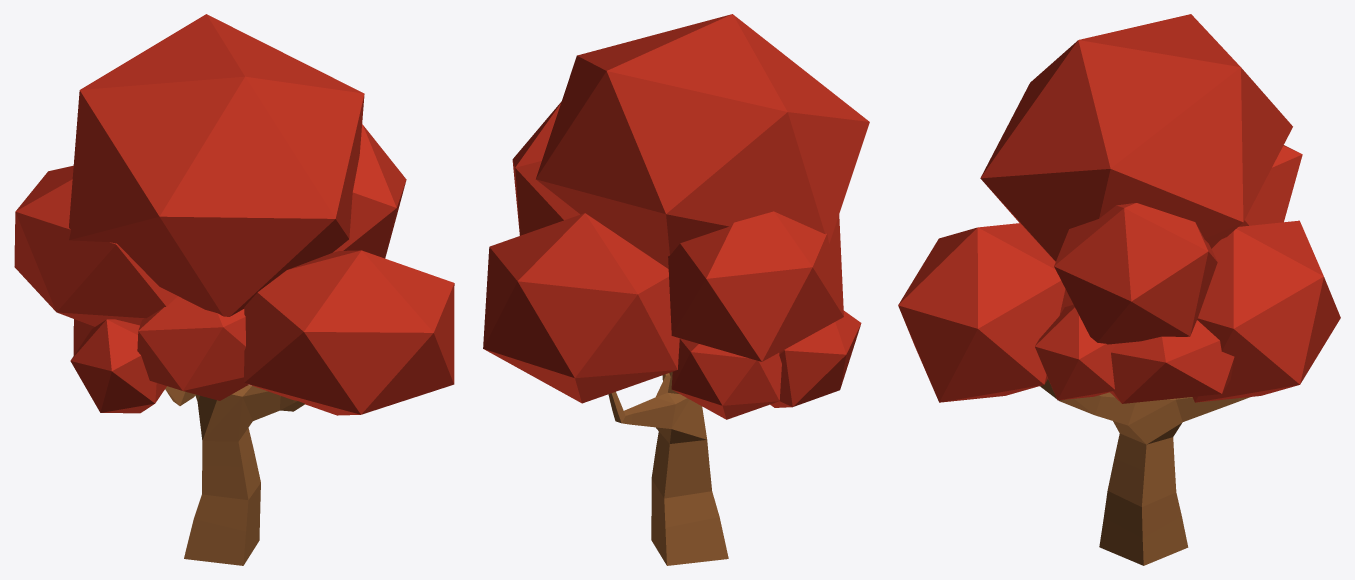
Rendered from TreeSmall_TFSGJ_Spring2025.fbx.
3 renders of one model, left to right at view 1: azimuth 30°, elevation 25°; view 2: azimuth 150°, elevation 25°; view 3: azimuth 270°, elevation 25°, orthographic. The views are drawn at different scales.
Visible parts, largest first — view 1: TreeSmall_TFSGJ_Spring2025; view 2: TreeSmall_TFSGJ_Spring2025; view 3: TreeSmall_TFSGJ_Spring2025.
Boxes of the visible parts, <box> form: TreeSmall_TFSGJ_Spring2025: <box>14,14,454,565</box>; TreeSmall_TFSGJ_Spring2025: <box>483,14,869,565</box>; TreeSmall_TFSGJ_Spring2025: <box>898,14,1340,565</box>.
Size of the model in its own units: 125 by 174 by 139.
